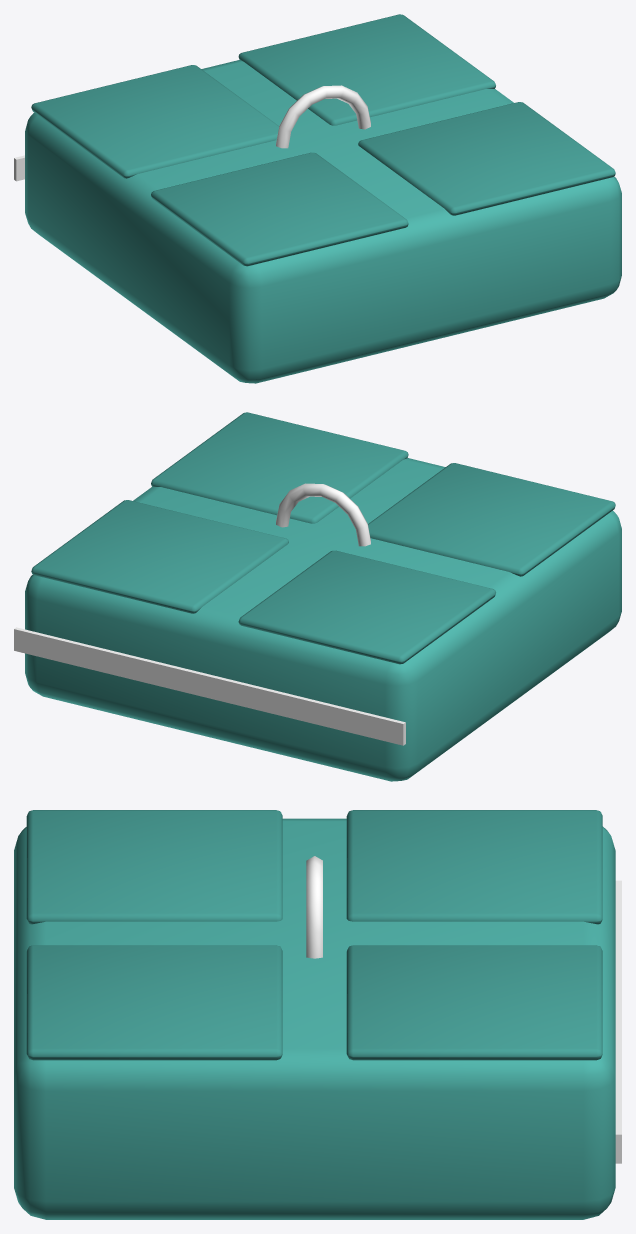
The model's file is playpen.fbx.
3 renders of one model, top to bottom at view 1: azimuth 30°, elevation 25°; view 2: azimuth 150°, elevation 25°; view 3: azimuth 270°, elevation 25°, orthographic. The views are drawn at different scales.
Visible parts, largest first — view 1: Playpen; view 2: Playpen; view 3: Playpen.
Boxes of the visible parts, bbox=[...] form: Playpen: bbox=[14, 14, 621, 383]; Playpen: bbox=[14, 412, 621, 781]; Playpen: bbox=[14, 810, 621, 1219].
Bounding box in the file's own units: 1.88 × 0.83 × 1.9.
